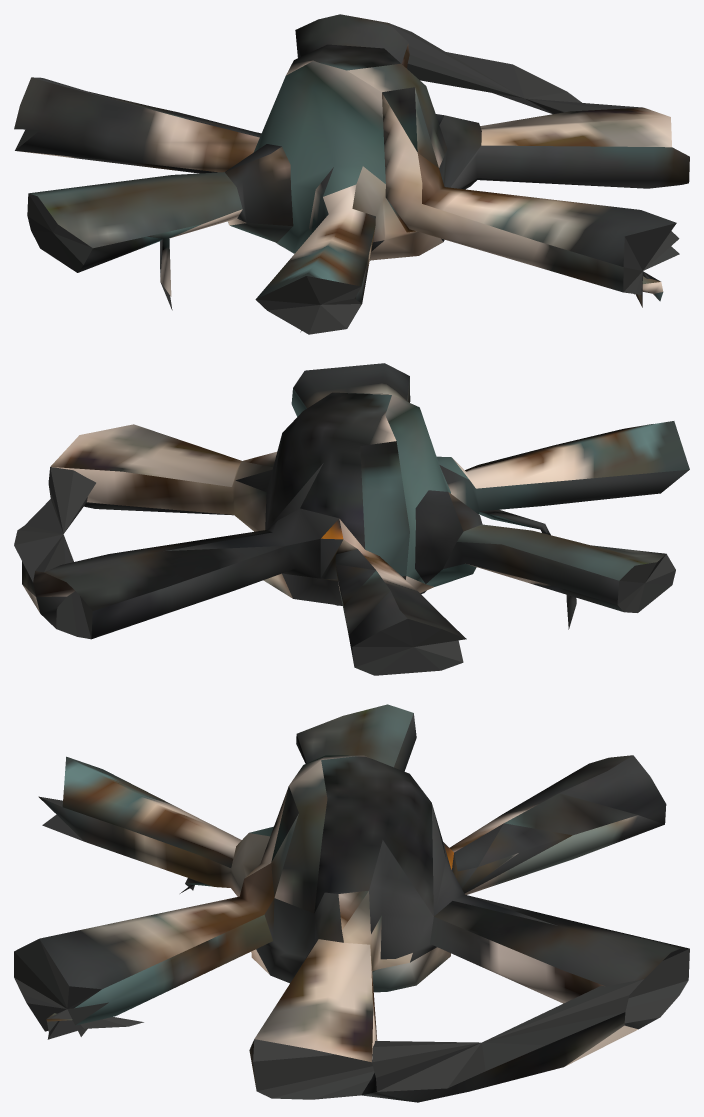
File: SM_Extractor_Rotor_RR.fbx
3 renders of one model, top to bottom at view 1: azimuth 30°, elevation 25°; view 2: azimuth 150°, elevation 25°; view 3: azimuth 270°, elevation 25°, orthographic. The views are drawn at different scales.
Visible parts, largest first — view 1: SM_Extractor_Rotor_RR; view 2: SM_Extractor_Rotor_RR; view 3: SM_Extractor_Rotor_RR.
Boxes of the visible parts, box(x1,y1,x2,y2) form: SM_Extractor_Rotor_RR: box(14, 14, 689, 334); SM_Extractor_Rotor_RR: box(14, 363, 689, 675); SM_Extractor_Rotor_RR: box(14, 704, 689, 1102).
Bounding box in the file's own units: 0.4596 × 0.1437 × 0.4305.
